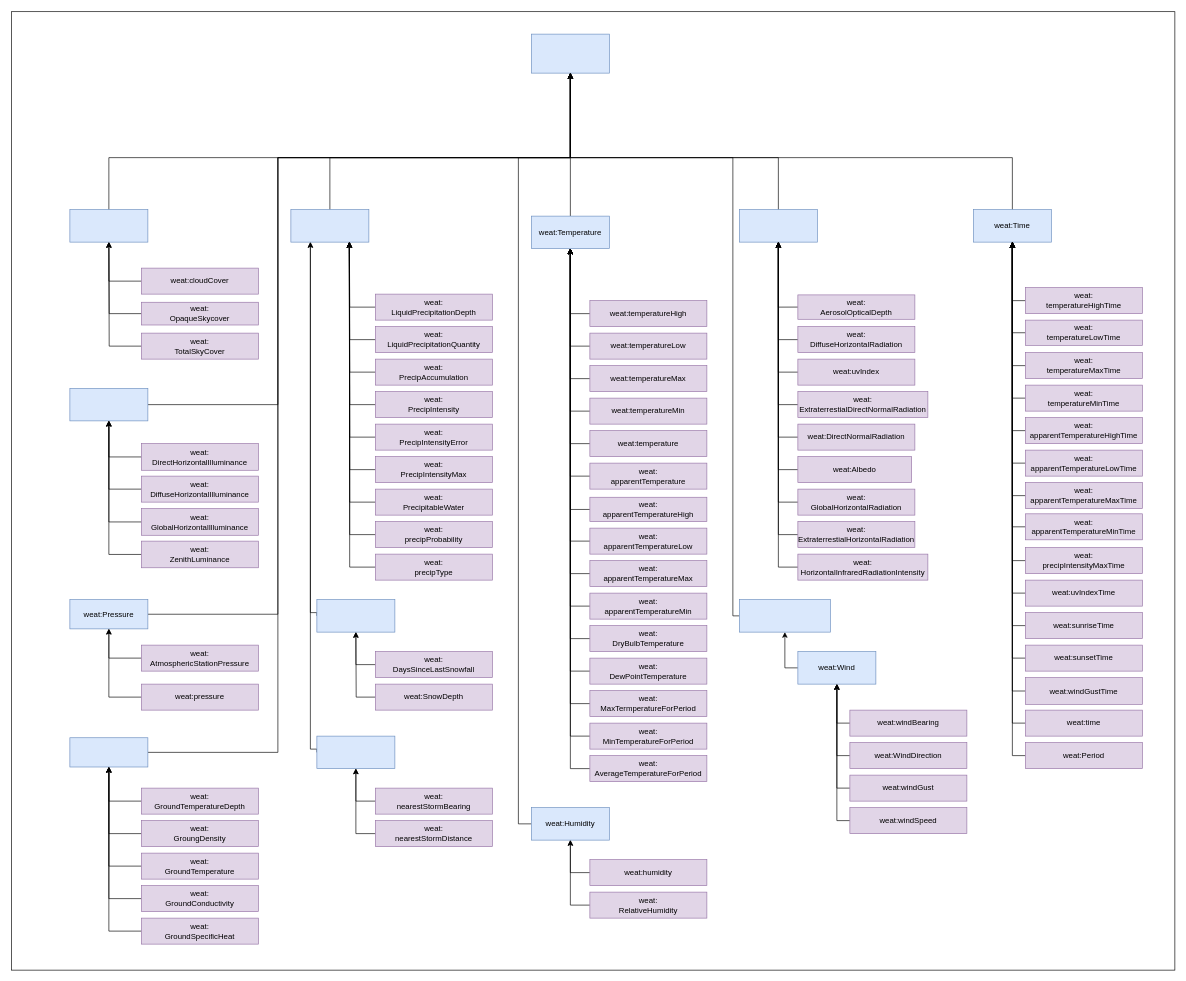
This 1186x981 diagram has some shape labels left out. The shapes that lost their labels are listed below. From the top down, each one's centre as x and y in pixels, then its label:
At point (570, 53): "weat: WeatherProperty".
At point (108, 225): "weat:SkyCover".
At point (329, 225): "weat:Precipitation".
At point (778, 225): "weat:Radiation".
At point (108, 404): "weat:Illuminance".
At point (355, 615): "weat:Snow".
At point (784, 615): "weat: AtmosphericPenomenon".
At point (108, 752): "weat:Ground".
At point (355, 752): "weat:Storm".
